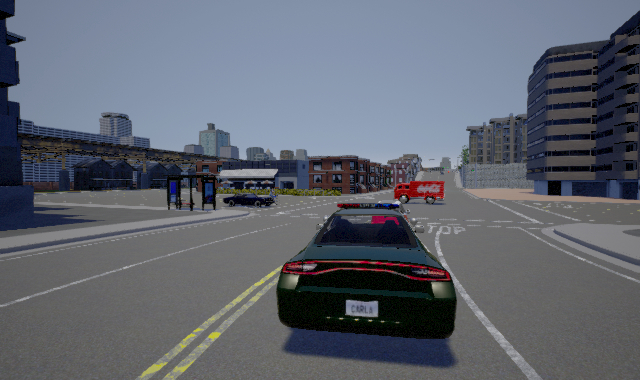vehicle: (276, 201, 458, 339), (394, 179, 445, 204), (223, 193, 278, 208)
